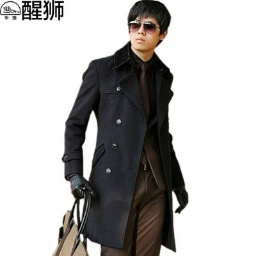face: (128, 1, 171, 52)
